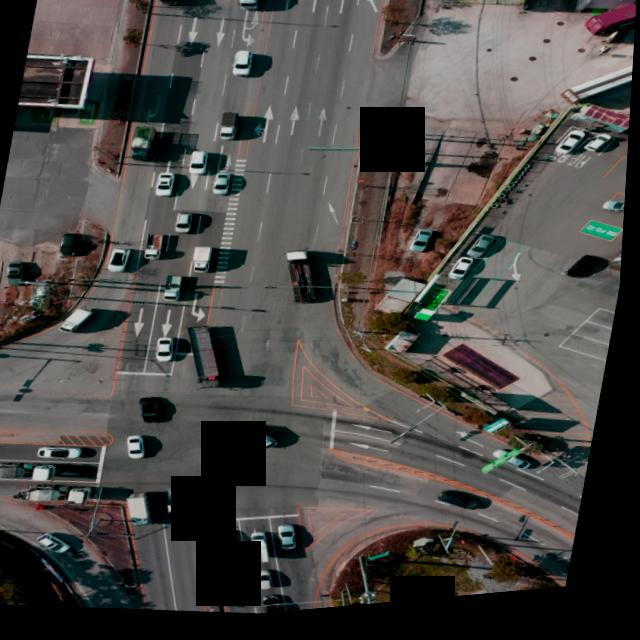car: (444, 495, 495, 522), (39, 531, 80, 555), (42, 443, 87, 463), (574, 261, 605, 290), (560, 136, 589, 163), (143, 395, 170, 424), (283, 527, 309, 556), (226, 573, 252, 602), (585, 142, 616, 165), (452, 261, 478, 288), (474, 240, 500, 266), (129, 436, 154, 462), (223, 530, 247, 557), (233, 51, 255, 79), (413, 236, 437, 261), (111, 248, 135, 273), (158, 337, 180, 364), (158, 173, 180, 199), (61, 230, 83, 256), (190, 151, 212, 177), (214, 173, 235, 198), (269, 599, 295, 619), (261, 571, 282, 595), (177, 212, 196, 235), (9, 260, 29, 281), (605, 207, 628, 225)
medium_truck: (564, 59, 635, 118), (182, 322, 236, 391), (281, 250, 328, 309), (28, 480, 97, 510), (0, 455, 63, 485), (126, 492, 162, 528), (193, 246, 217, 276), (234, 0, 266, 14), (154, 0, 187, 10)
small_truck: (243, 425, 286, 455), (63, 304, 101, 336), (252, 533, 282, 570), (131, 129, 159, 164), (168, 489, 194, 518), (220, 113, 242, 145), (169, 273, 192, 303), (147, 233, 170, 262), (486, 424, 517, 445)
